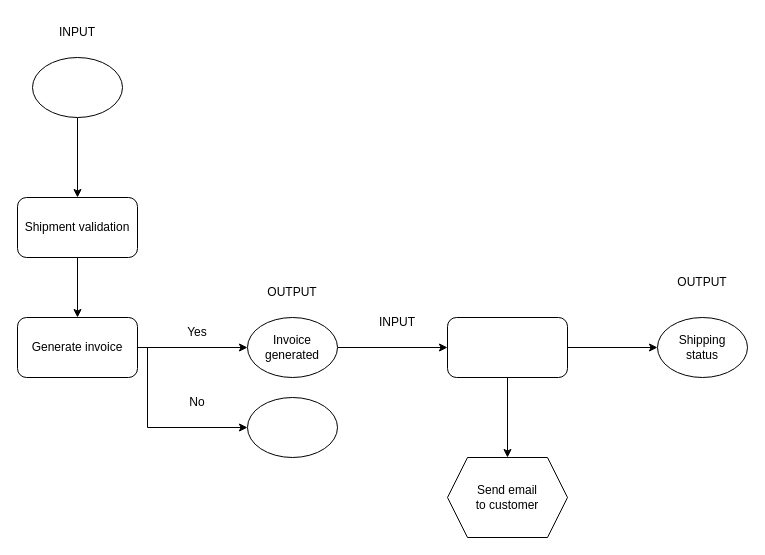
The diagram is 765 pixels wide and 555 high, and some of its shapes have lost their labels. Each missing label, with the box of its shape:
Generating error: (246, 396, 338, 458)
Order form: (32, 56, 122, 118)
Shipping confirmation: (446, 316, 568, 378)
